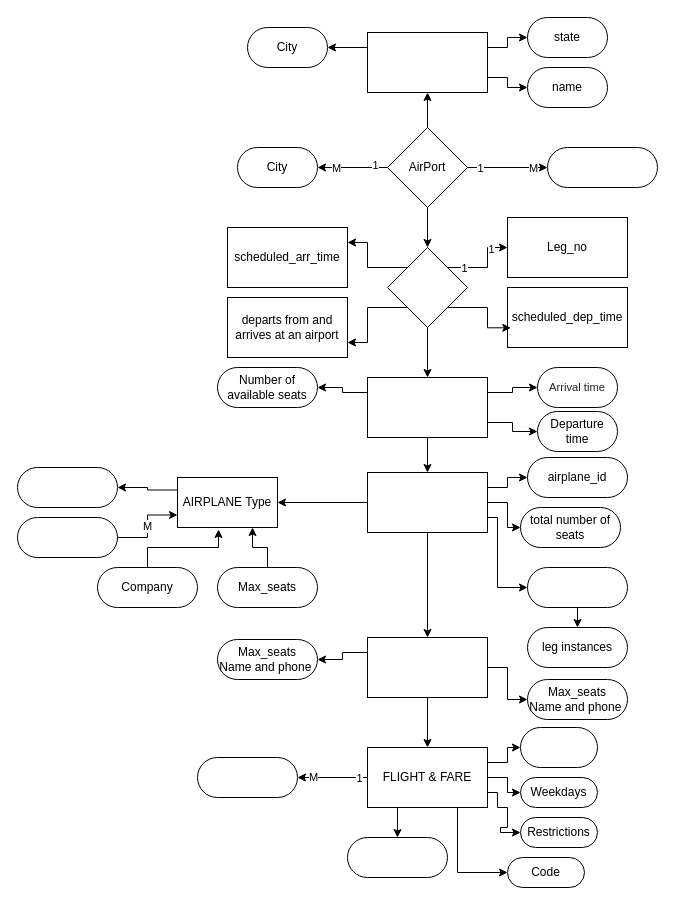
This 675x905 diagram has some shape labels left out. The shapes that lost their labels are listed below. From the top down, each one's box as (x1, y1, x2, y2) in pixels, then its label:
(366, 32, 488, 92): airport code
(546, 146, 658, 188): departure or arrival
(386, 246, 468, 328): Flight LEG
(366, 376, 488, 438): LEG INSTANCE
(16, 466, 118, 508): seat reservations.
(366, 472, 488, 532): AIRPLANE
(16, 516, 118, 558): type_name
(526, 566, 628, 608): specific type
(366, 636, 488, 698): SEAT / RESERVATION
(520, 726, 598, 768): Airline
(196, 756, 298, 798): multiple legs
(346, 836, 448, 878): Amount
